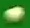white: (0, 0, 30, 28)
